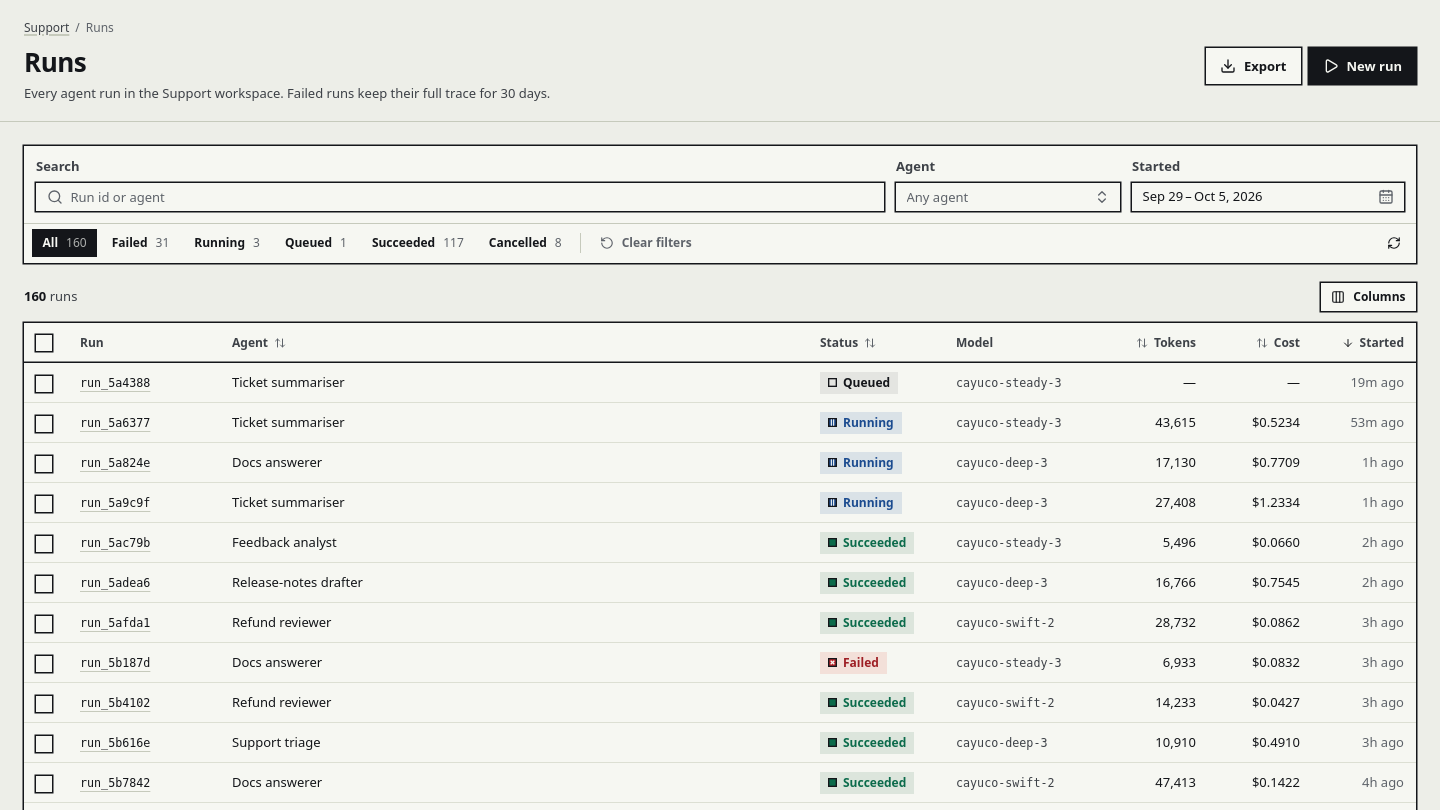
Scenario: RunsAdminScreen › a search that matches nothing says so and offers to clear the filters
Type "no-such-run" into the search field labelled "Search".
click(472, 197); type("no-such-run")  # box [70, 183, 874, 211]
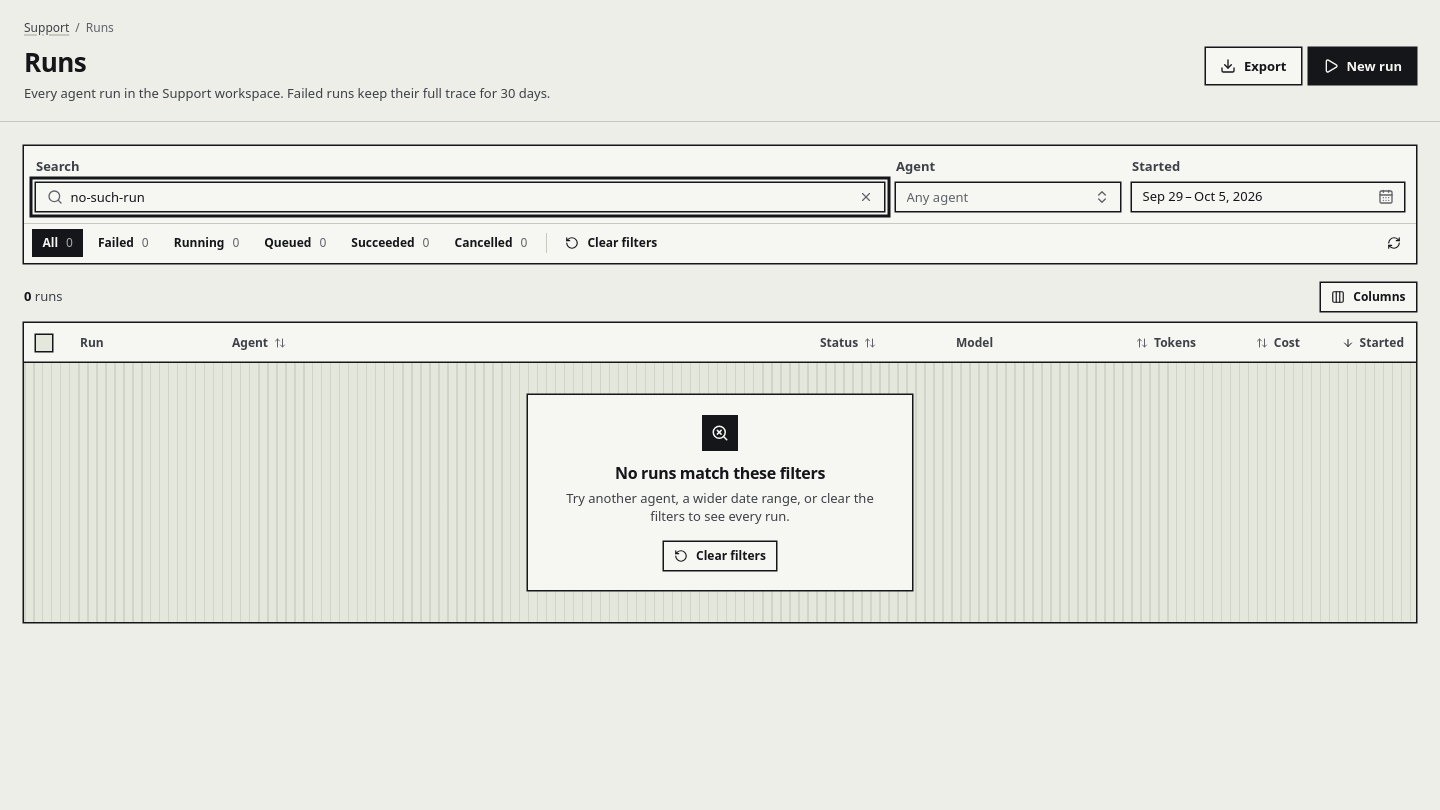
Check: the heading "No runs match these filters" is shown, box [615, 463, 825, 483]
Click the button "Clear filters" below "No runs match these filters".
click(720, 556)  # box [664, 542, 776, 570]
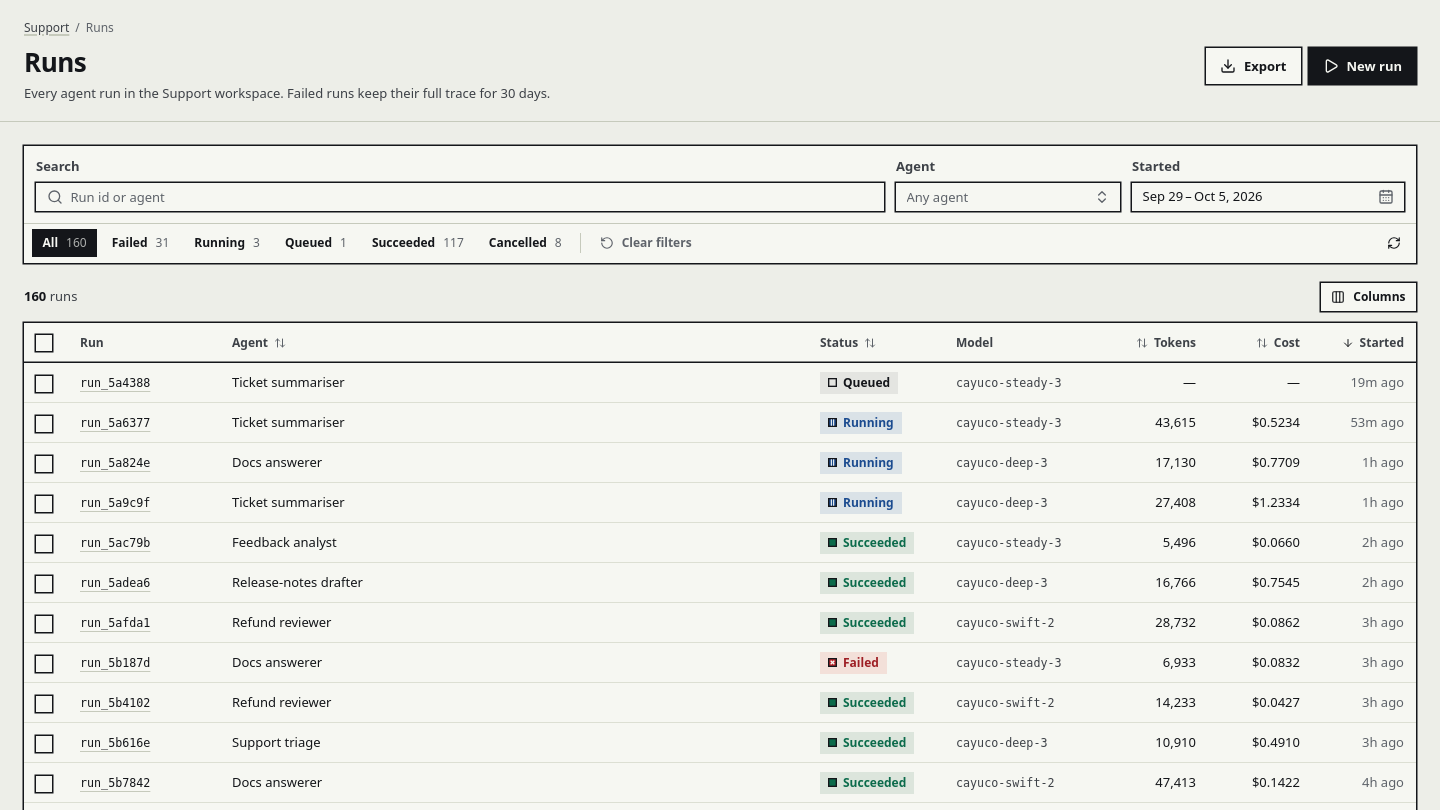
Check: the search field labelled "Search" is empty, box [70, 183, 874, 211]
